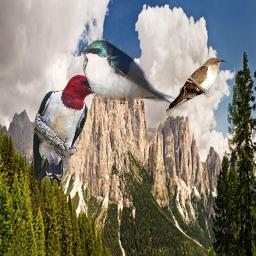Cuckoo: (166, 57, 227, 116)
Swallow: (79, 39, 175, 104)
Woodpecker: (30, 75, 112, 189)
